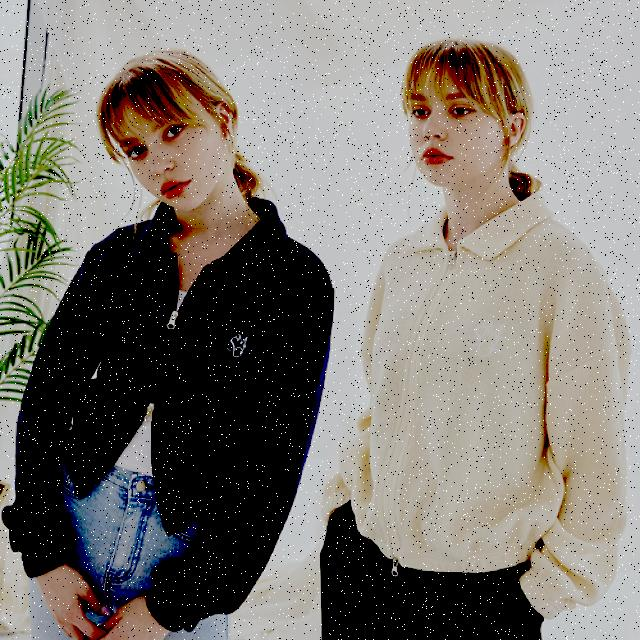Blouse_deep: (0, 196, 334, 633), (339, 206, 629, 624)
